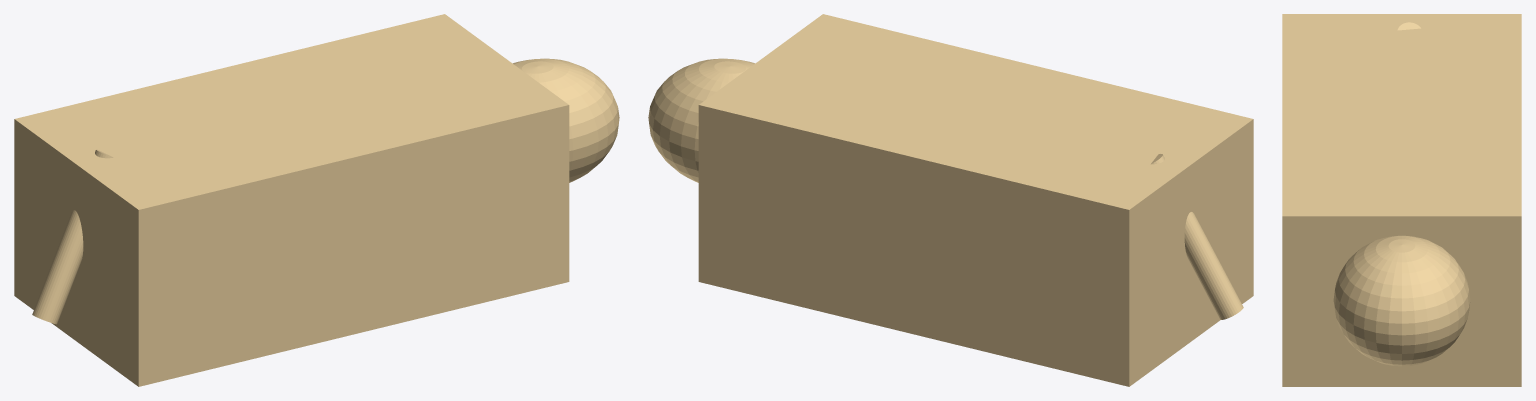
Rendered from golden_retriever_test.glb.
3 renders of one model, left to right at view 1: azimuth 30°, elevation 25°; view 2: azimuth 150°, elevation 25°; view 3: azimuth 270°, elevation 25°, orthographic. The views are drawn at different scales.
Parts seen in each view (by area): view 1: GoldenRetriever_Body, GoldenRetriever_Head, GoldenRetriever_Tail; view 2: GoldenRetriever_Body, GoldenRetriever_Head, GoldenRetriever_Tail; view 3: GoldenRetriever_Body, GoldenRetriever_Head.
Boxes of the visible parts, x1=… form: GoldenRetriever_Body: x1=14, y1=14, x2=569, y2=386; GoldenRetriever_Head: x1=513, y1=58, x2=619, y2=182; GoldenRetriever_Tail: x1=32, y1=149, x2=113, y2=324; GoldenRetriever_Body: x1=698, y1=14, x2=1253, y2=386; GoldenRetriever_Head: x1=648, y1=58, x2=754, y2=182; GoldenRetriever_Tail: x1=1151, y1=154, x2=1243, y2=319; GoldenRetriever_Body: x1=1282, y1=14, x2=1521, y2=386; GoldenRetriever_Head: x1=1333, y1=235, x2=1470, y2=366.
Bounding box in the file's own units: 7.56 × 2.35 × 2.8.
